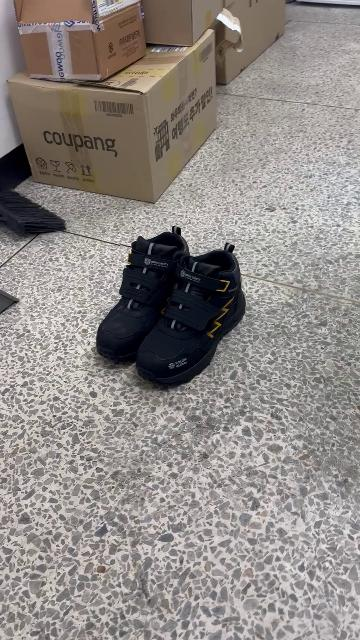shoe_worn: (134, 240, 248, 391), (95, 227, 193, 367)
